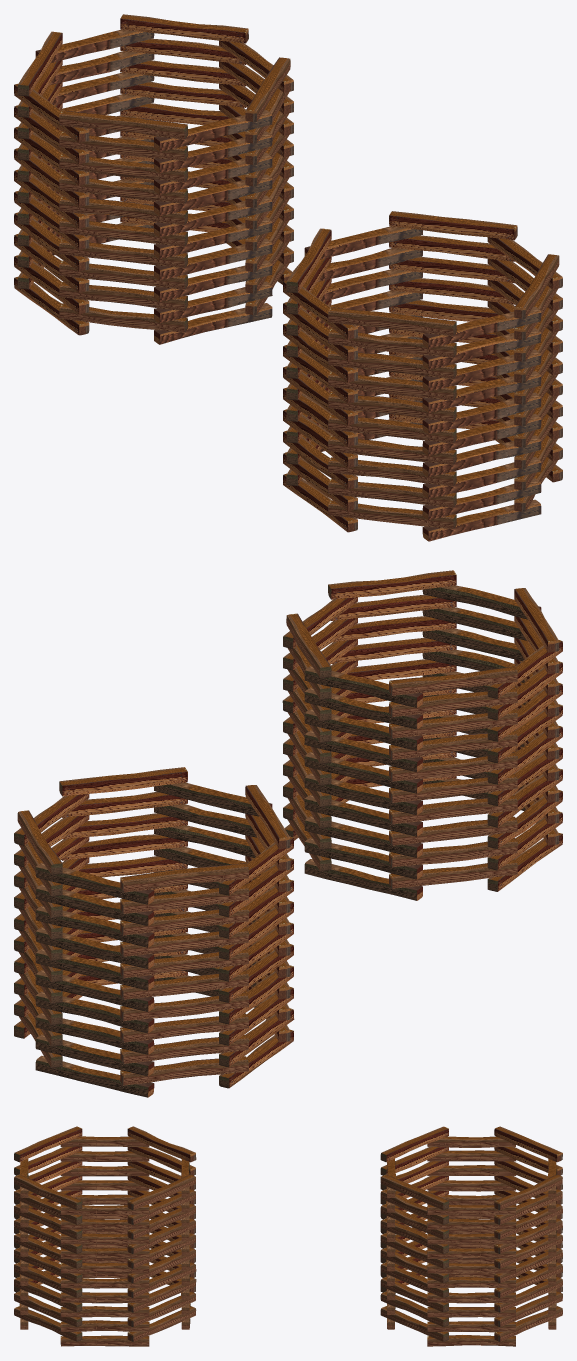
File: M10_Dynamic1Wood_2kg.fbx
3 views of the same model, one above another, from view 1: azimuth 30°, elevation 25°; view 2: azimuth 150°, elevation 25°; view 3: azimuth 270°, elevation 25° (orthographic). The views are drawn at different scales.
Parts seen in each view (by area): view 1: D1Box580, D1Box577, D1Box96, D1Box93, D1Box104, D1Box568, D1Box624, D1Box632, D1Box640, D1Box664, D1Box9, D1Box105 (+76 smaller); view 2: D1Box94, D1Box95, D1Box579, D1Box578, D1Box631, D1Box34, D1Box647, D1Box655, D1Box639, D1Box663, D1Box26, D1Box103 (+78 smaller); view 3: D1Box641, D1Box649, D1Box48, D1Box112, D1Box56, D1Box97, D1Box24, D1Box576, D1Box98, D1Box561, D1Box617, D1Box672 (+74 smaller).
Boxes of the visible parts, left/top/right/bottom form: D1Box580: left=389, top=211, right=517, bottom=240; D1Box577: left=328, top=307, right=456, bottom=336; D1Box96: left=59, top=110, right=187, bottom=139; D1Box93: left=120, top=14, right=248, bottom=43; D1Box104: left=59, top=132, right=187, bottom=161; D1Box568: left=328, top=350, right=456, bottom=379; D1Box624: left=328, top=371, right=456, bottom=400; D1Box632: left=328, top=393, right=456, bottom=421; D1Box640: left=328, top=414, right=456, bottom=443; D1Box664: left=328, top=478, right=456, bottom=507; D1Box9: left=59, top=282, right=187, bottom=310; D1Box105: left=59, top=153, right=187, bottom=182; D1Box94: left=59, top=767, right=187, bottom=796; D1Box95: left=120, top=863, right=248, bottom=892; D1Box579: left=328, top=570, right=456, bottom=599; D1Box578: left=389, top=666, right=517, bottom=695; D1Box631: left=389, top=752, right=517, bottom=781; D1Box34: left=120, top=970, right=248, bottom=999; D1Box647: left=389, top=795, right=517, bottom=824; D1Box655: left=389, top=816, right=517, bottom=845; D1Box639: left=389, top=773, right=517, bottom=802; D1Box663: left=389, top=838, right=517, bottom=867; D1Box26: left=120, top=992, right=248, bottom=1021; D1Box103: left=120, top=884, right=248, bottom=913; D1Box641: left=60, top=1292, right=149, bottom=1303; D1Box649: left=60, top=1306, right=149, bottom=1317; D1Box48: left=427, top=1263, right=515, bottom=1274; D1Box112: left=427, top=1233, right=515, bottom=1244; D1Box56: left=427, top=1248, right=516, bottom=1259; D1Box97: left=427, top=1218, right=516, bottom=1229; D1Box24: left=427, top=1307, right=515, bottom=1317; D1Box576: left=60, top=1219, right=149, bottom=1229; D1Box98: left=427, top=1150, right=516, bottom=1161; D1Box561: left=60, top=1233, right=149, bottom=1244; D1Box617: left=60, top=1248, right=149, bottom=1258; D1Box672: left=60, top=1335, right=149, bottom=1346.
Size of what is drawn, in the model's own units: 45.21 by 40.43 by 136.
